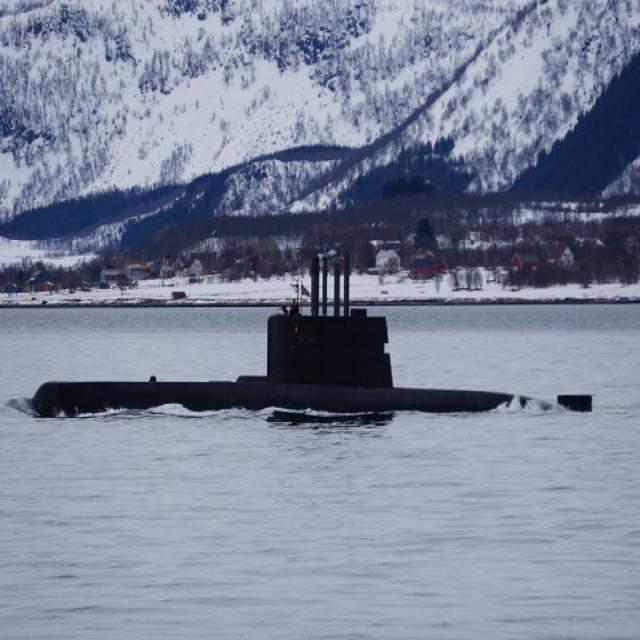submarine: (36, 243, 623, 421)
